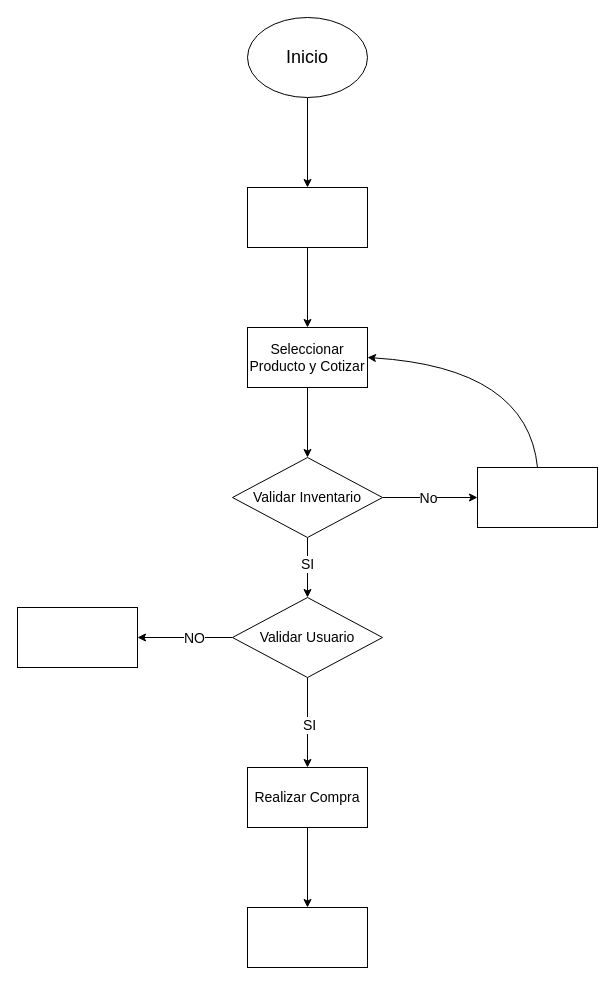
Some shapes in this 615 by 985 pixel diagram are drawn without their labels. The shapes that lost their labels are listed below. From the top down, each one's box as (x1, y1, x2, y2) in pixels, then its label:
(246, 186, 368, 248): Consultar Catálogo
(476, 466, 598, 528): Stock Insuficiente
(16, 606, 138, 668): Registrar Usuario
